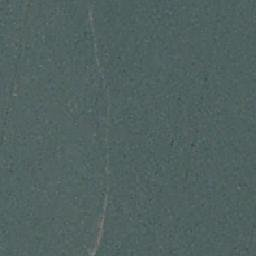debris: (92, 191, 107, 256)
